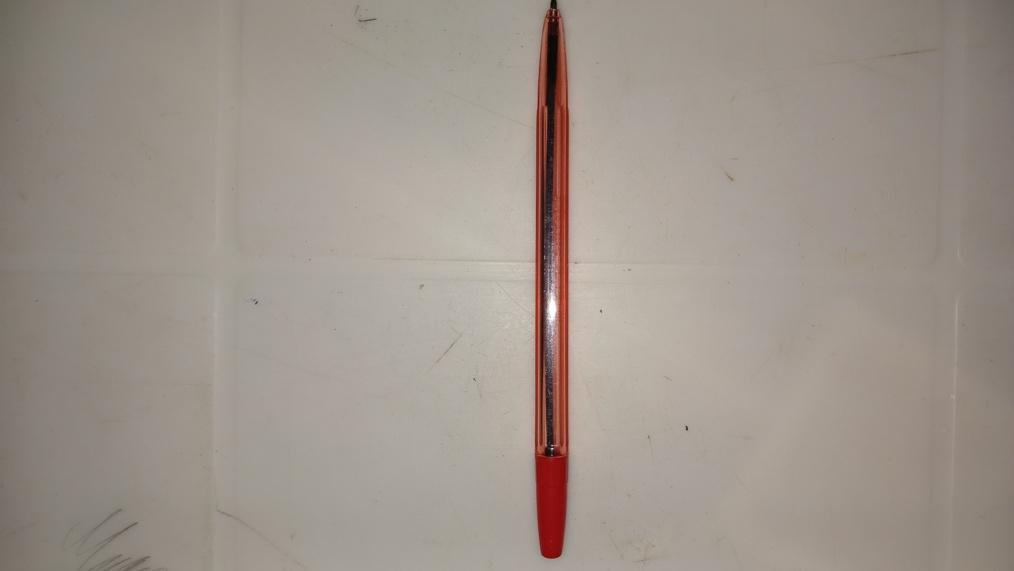pen: (533, 0, 572, 559)
